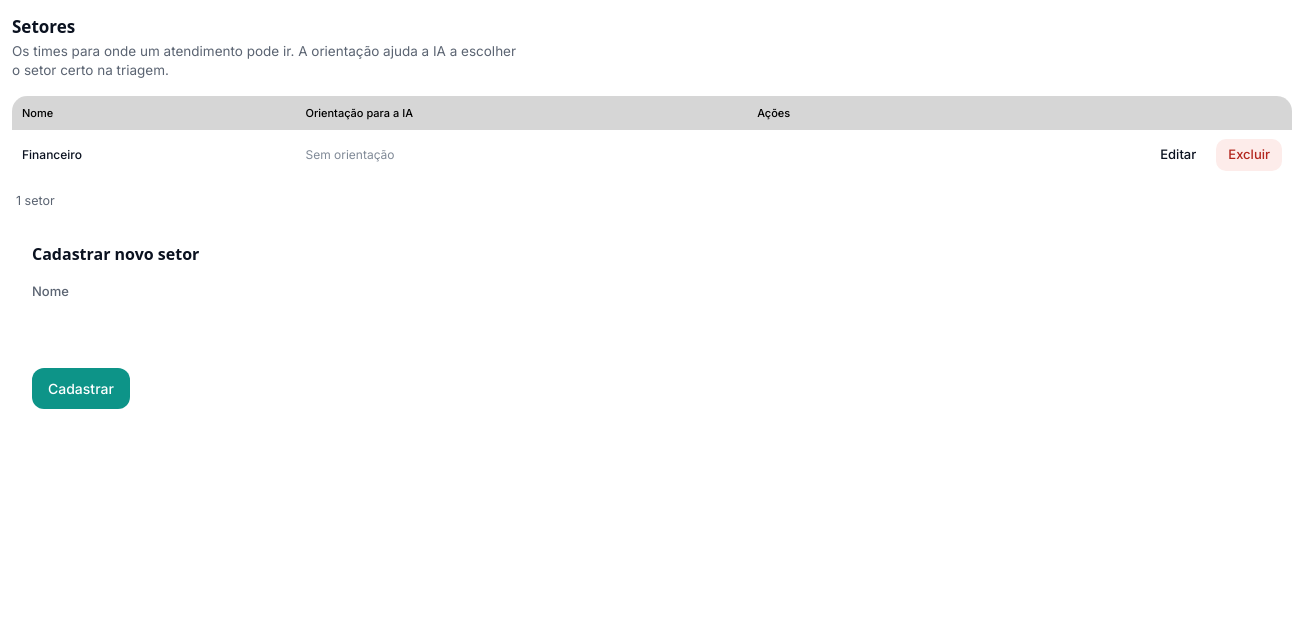
Test case: SectorsAdminTab › canceling an edit discards unsaved changes
Click the button "Editar" at (1178, 155), box left=1148, top=139, right=1208, bottom=170
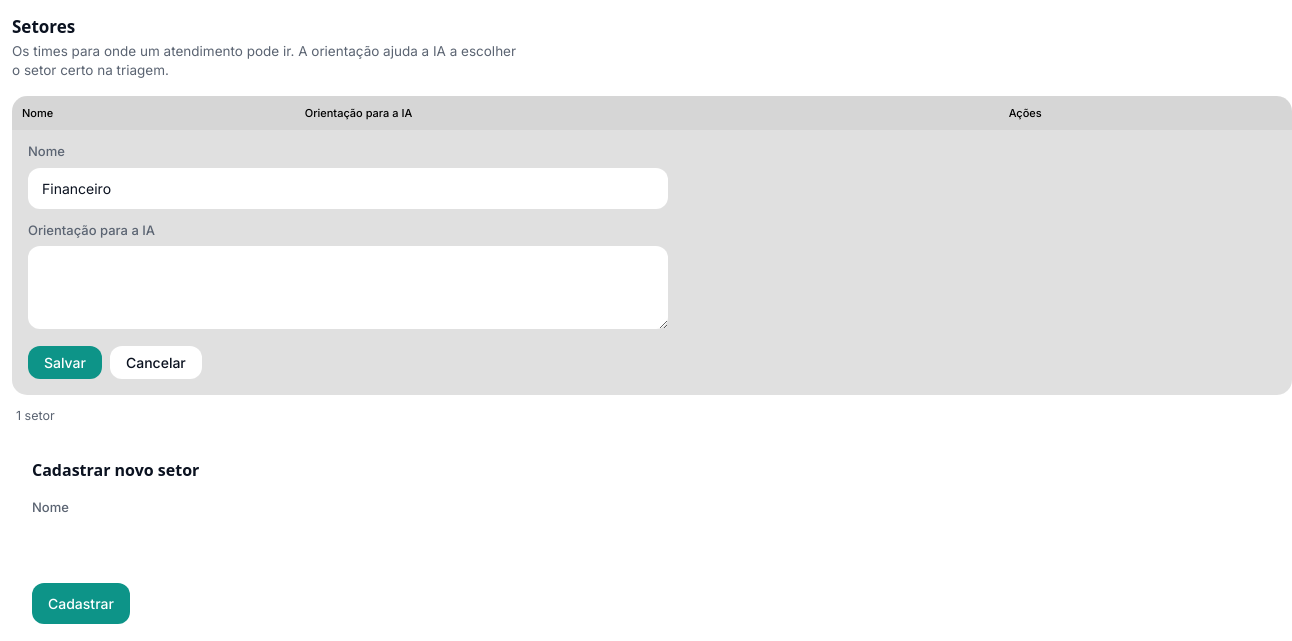
Replace the text in the 1st field showing "Financeiro" with "Rascunho abandonado" at (348, 188), box left=28, top=168, right=668, bottom=208
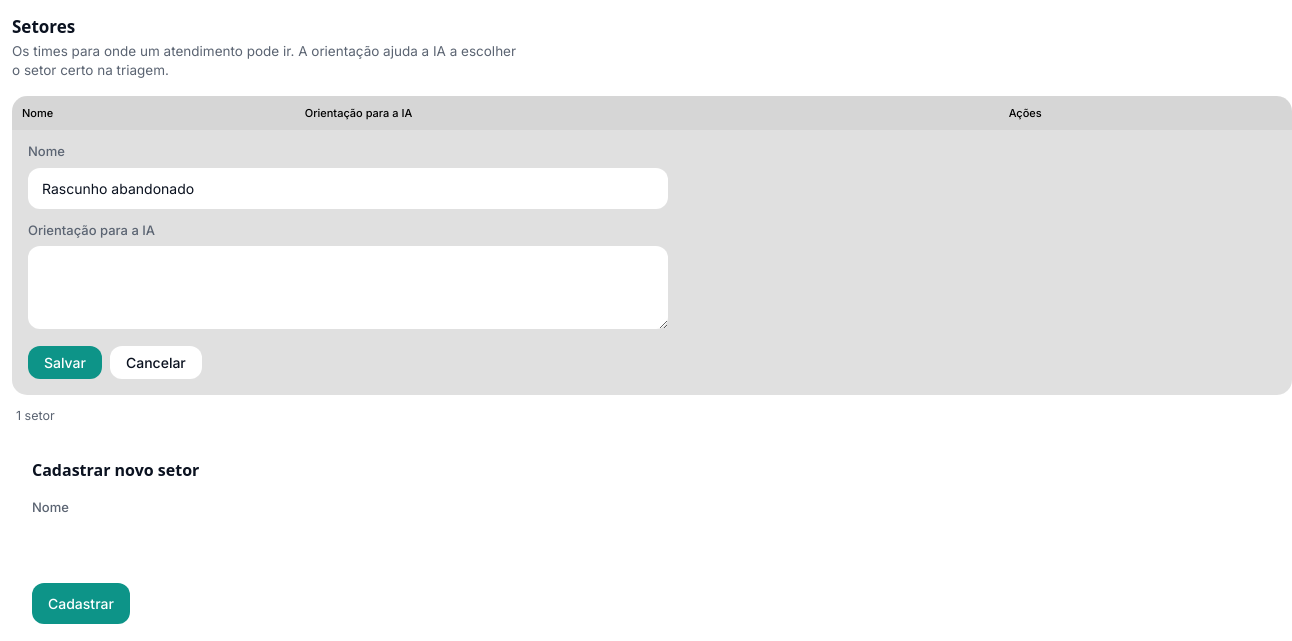
Click the button "Cancelar" at (156, 362), box left=110, top=346, right=202, bottom=379
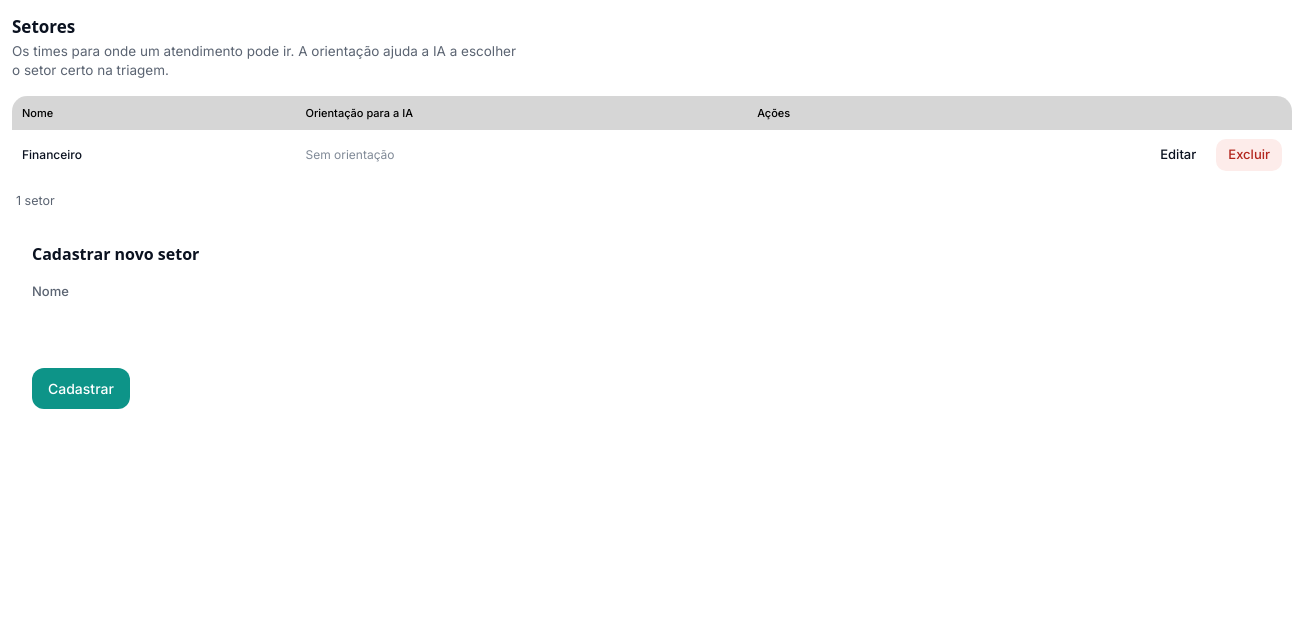
Click the button "Editar" at (1178, 155), box left=1148, top=139, right=1208, bottom=170
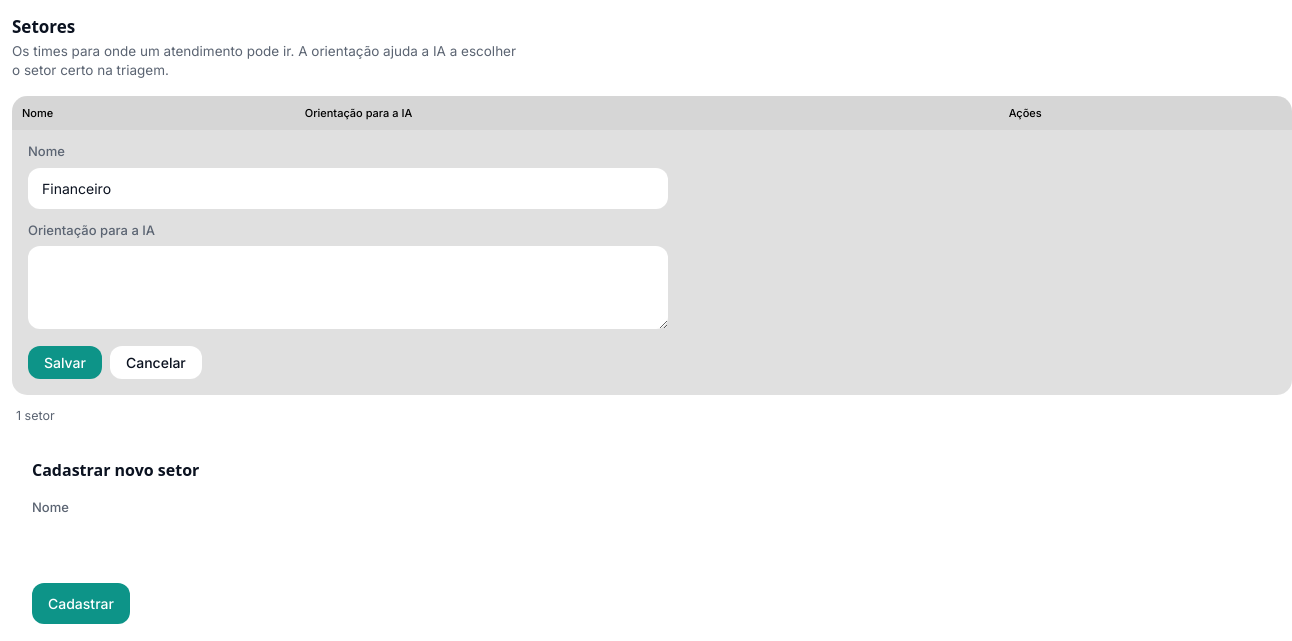
Expected: the field showing "Rascunho abandonado" is not shown
Expected: the 1st field showing "Financeiro" is shown, left=28, top=168, right=668, bottom=208
